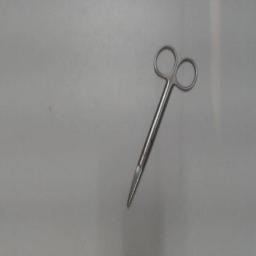Curved Mayo Scissors: (124, 40, 200, 212)
